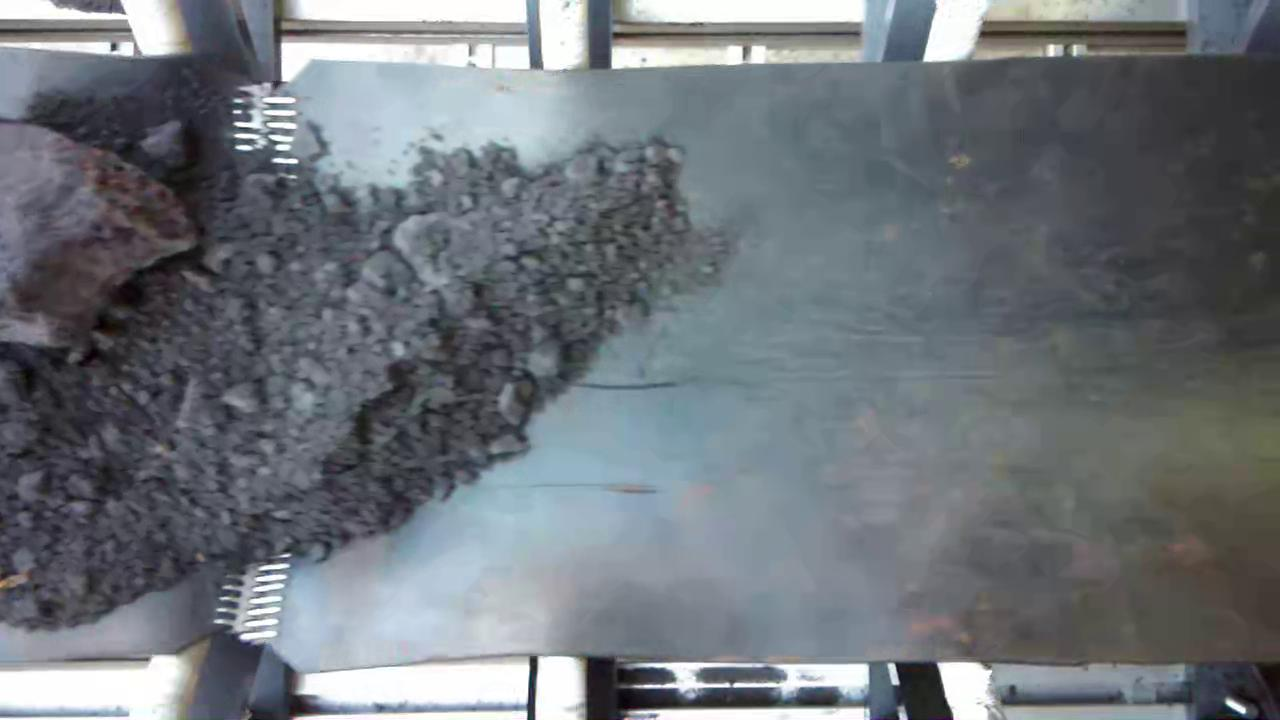conveyor: (5, 67, 1280, 652)
